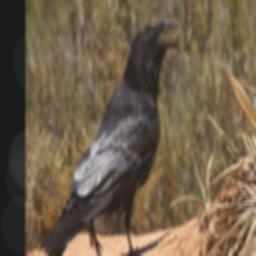Crow: (39, 20, 179, 256)
